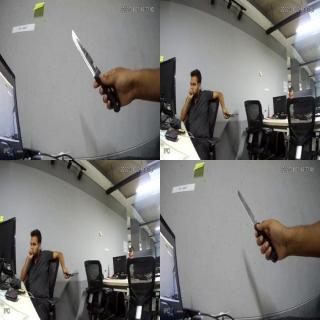knife: (69, 25, 121, 114), (235, 184, 279, 262), (223, 108, 240, 121), (65, 269, 79, 281)
